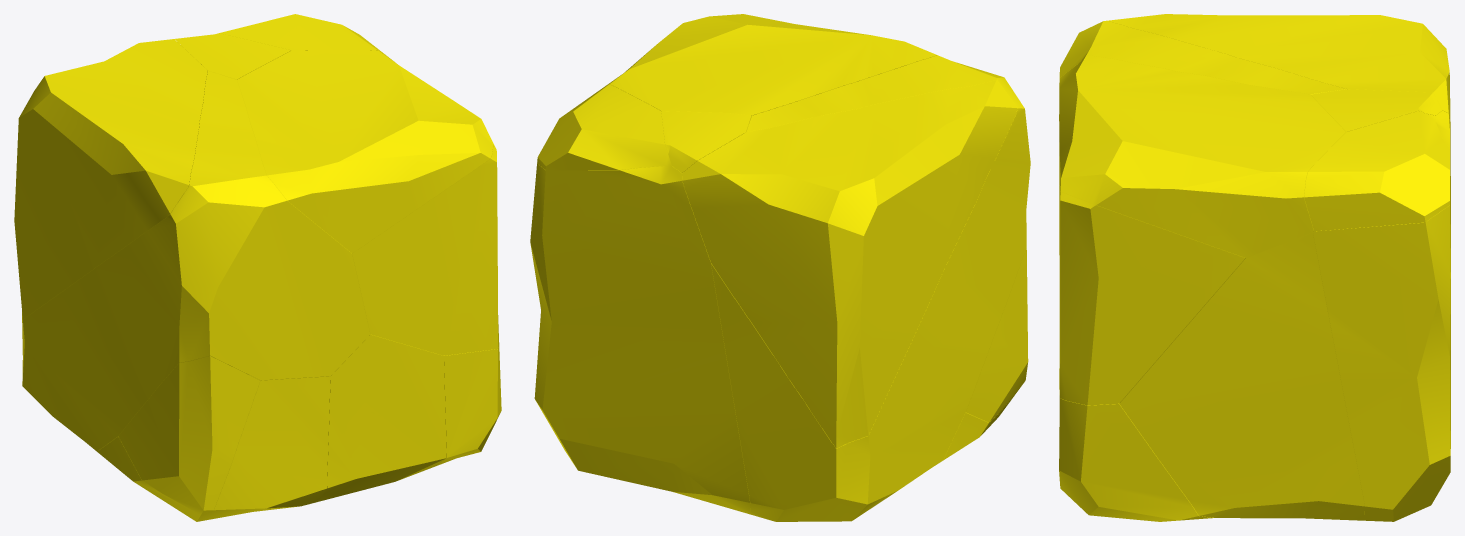
File: brokenCube.fbx
3 views of the same model, side by side, from view 1: azimuth 30°, elevation 25°; view 2: azimuth 150°, elevation 25°; view 3: azimuth 270°, elevation 25° (orthographic). The views are drawn at different scales.
Parts seen in each view (by area): view 1: Cube.001_cell.003, Cube.001_cell, Cube.001_cell.008, Cube.001_cell.002, Cube.001_cell.009, Cube.001_cell.011, Cube.001_cell.005, Cube.001_cell.007, Cube.001_cell.004, Cube.001_cell.010; view 2: Cube.001_cell, Cube.001_cell.006, Cube.001_cell.003, Cube.001_cell.008, Cube.001_cell.004, Cube.001_cell.011, Cube.001_cell.010, Cube.001_cell.005; view 3: Cube.001_cell.001, Cube.001_cell.008, Cube.001_cell.006, Cube.001_cell.002, Cube.001_cell, Cube.001_cell.004, Cube.001_cell.007, Cube.001_cell.003, Cube.001_cell.010.
Boxes of the visible parts, bbox=[...] form: Cube.001_cell.003: bbox=[22, 64, 370, 451]; Cube.001_cell: bbox=[14, 39, 207, 319]; Cube.001_cell.008: bbox=[237, 50, 493, 253]; Cube.001_cell.002: bbox=[352, 145, 499, 355]; Cube.001_cell.009: bbox=[319, 334, 446, 501]; Cube.001_cell.011: bbox=[118, 356, 260, 514]; Cube.001_cell.005: bbox=[97, 376, 330, 521]; Cube.001_cell.007: bbox=[434, 346, 501, 466]; Cube.001_cell.004: bbox=[220, 14, 383, 53]; Cube.001_cell.010: bbox=[174, 33, 290, 79]; Cube.001_cell: bbox=[682, 80, 1017, 448]; Cube.001_cell.006: bbox=[530, 163, 750, 514]; Cube.001_cell.003: bbox=[710, 55, 1030, 521]; Cube.001_cell.008: bbox=[606, 14, 937, 115]; Cube.001_cell.004: bbox=[537, 84, 671, 170]; Cube.001_cell.011: bbox=[966, 248, 1028, 422]; Cube.001_cell.010: bbox=[661, 111, 751, 172]; Cube.001_cell.005: bbox=[943, 396, 1013, 460]; Cube.001_cell.001: bbox=[1119, 232, 1364, 520]; Cube.001_cell.008: bbox=[1059, 55, 1345, 257]; Cube.001_cell.006: bbox=[1313, 110, 1450, 521]; Cube.001_cell.002: bbox=[1059, 186, 1245, 405]; Cube.001_cell: bbox=[1108, 14, 1450, 220]; Cube.001_cell.004: bbox=[1304, 111, 1449, 231]; Cube.001_cell.007: bbox=[1059, 368, 1213, 521]; Cube.001_cell.003: bbox=[1059, 20, 1450, 290]; Cube.001_cell.010: bbox=[1311, 89, 1442, 131].
Bounding box in the file's own units: 103 × 103 × 103.
